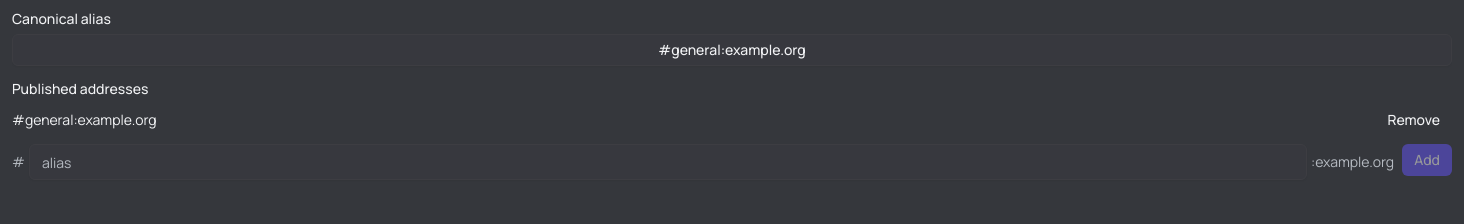
RoomAliasManagement › does not mutate canonical state after alias removal if the room became read-only
Click the button "Remove" at (1414, 120), box left=1376, top=104, right=1452, bottom=136
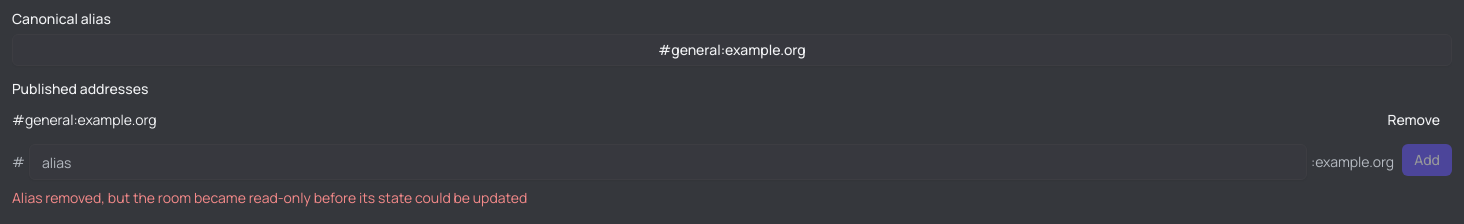
Expected: the text "became read-only" is shown, left=12, top=188, right=527, bottom=207
